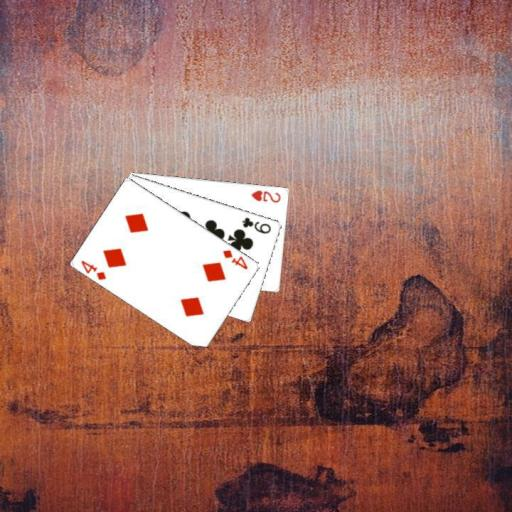2H: (248, 186, 282, 204)
4D: (220, 246, 250, 271), (78, 258, 108, 282)
9C: (239, 214, 272, 235)
